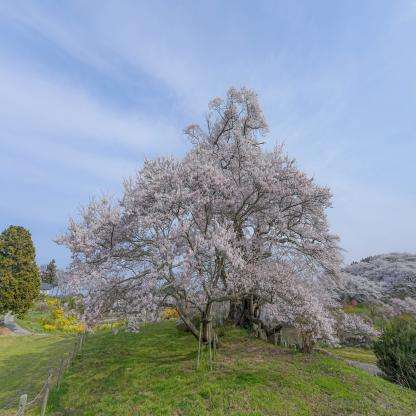EdohiganSakura: (51, 84, 383, 350)
